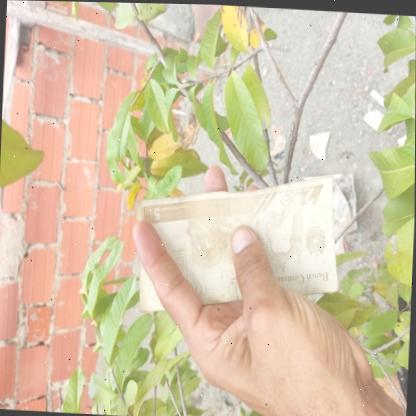five-back-vef: (130, 165, 343, 320)
